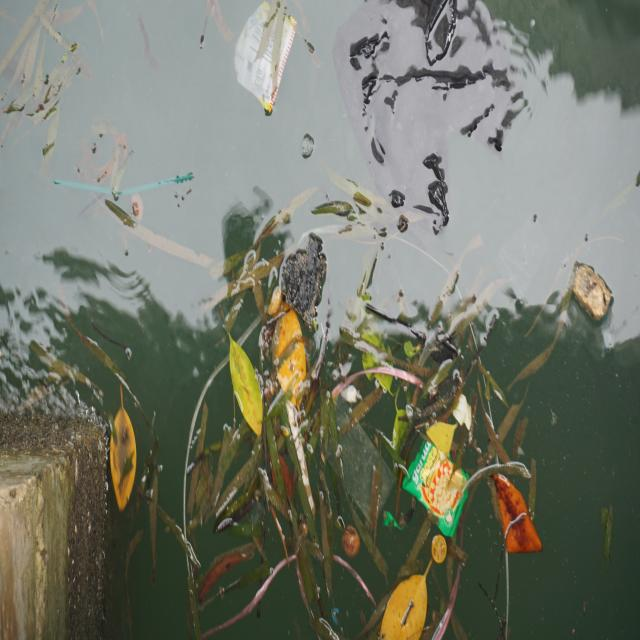Bungkus Makanan: (235, 2, 301, 130), (404, 438, 471, 540)
Kantong Plastik: (336, 1, 542, 224), (313, 392, 400, 532)
